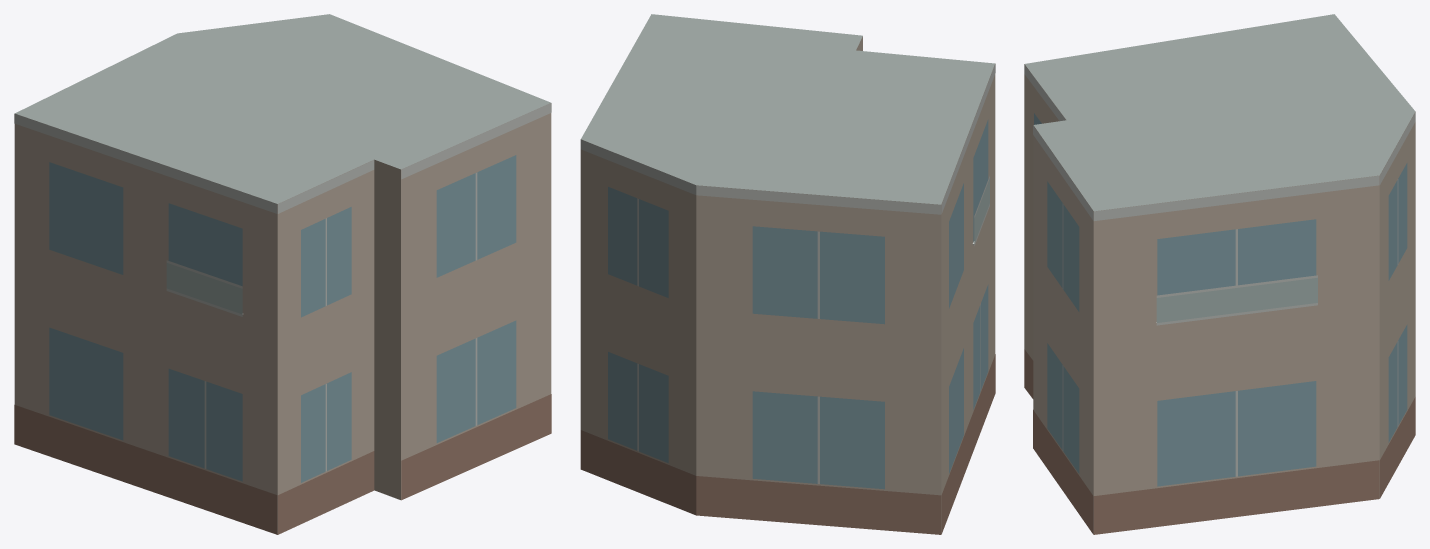
The model's file is survey-upis-32585172.glb.
3 views of the same model, side by side, from view 1: azimuth 30°, elevation 25°; view 2: azimuth 150°, elevation 25°; view 3: azimuth 270°, elevation 25° (orthographic). The views are drawn at different scales.
Visible parts, largest first — view 1: survey-upis-32585172.tmp; view 2: survey-upis-32585172.tmp; view 3: survey-upis-32585172.tmp.
Boxes of the visible parts, x1,y1,x2,y2 form: survey-upis-32585172.tmp: [14, 14, 551, 534]; survey-upis-32585172.tmp: [580, 14, 995, 534]; survey-upis-32585172.tmp: [1024, 14, 1415, 534].
Size of the model in its own units: 10.48 by 8 by 8.78.
